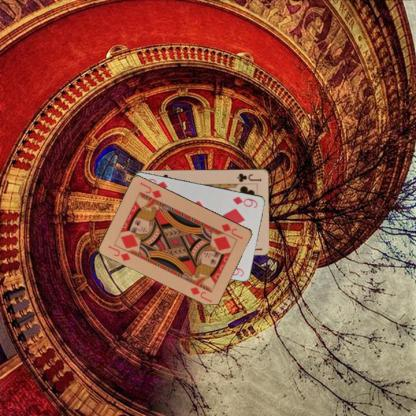6d: (230, 194, 259, 209)
Jc: (235, 171, 262, 183)
Jd: (106, 243, 132, 262), (219, 221, 244, 240)
